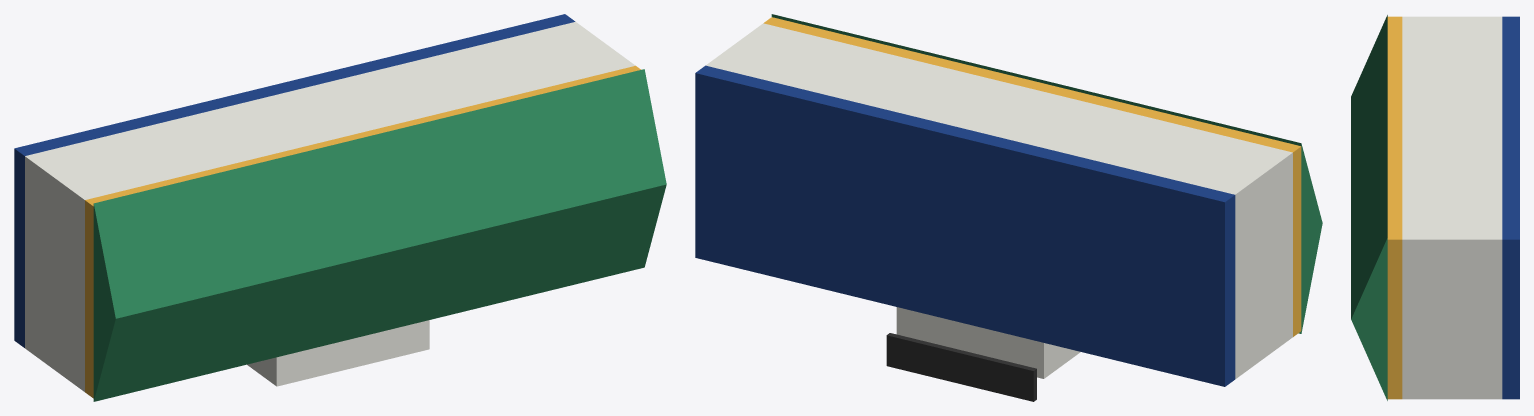
Rendered from daet_hall.obj.
3 views of the same model, side by side, from view 1: azimuth 30°, elevation 25°; view 2: azimuth 150°, elevation 25°; view 3: azimuth 270°, elevation 25° (orthographic). The views are drawn at different scales.
Bounding box in the file's own units: 36 × 16.2 × 11.5.
